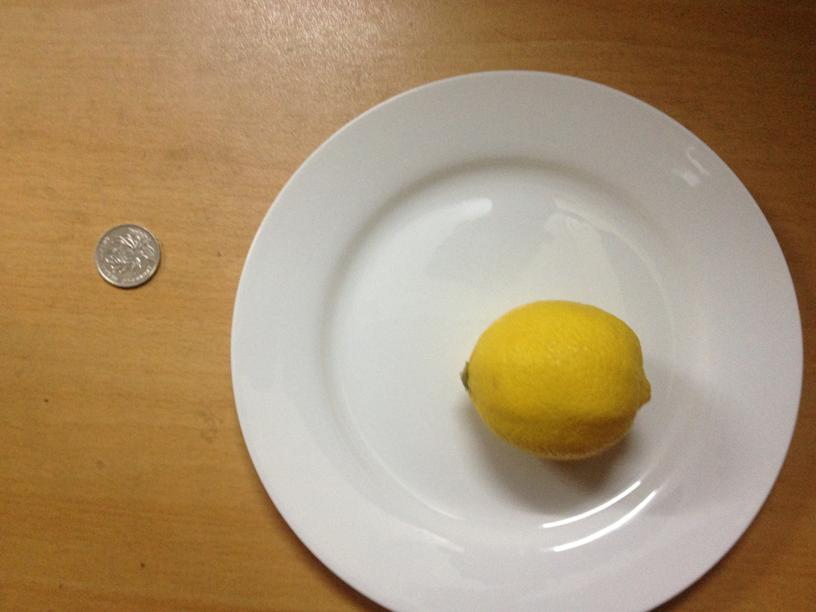coin: (93, 221, 161, 289)
lemon: (464, 299, 647, 460)
